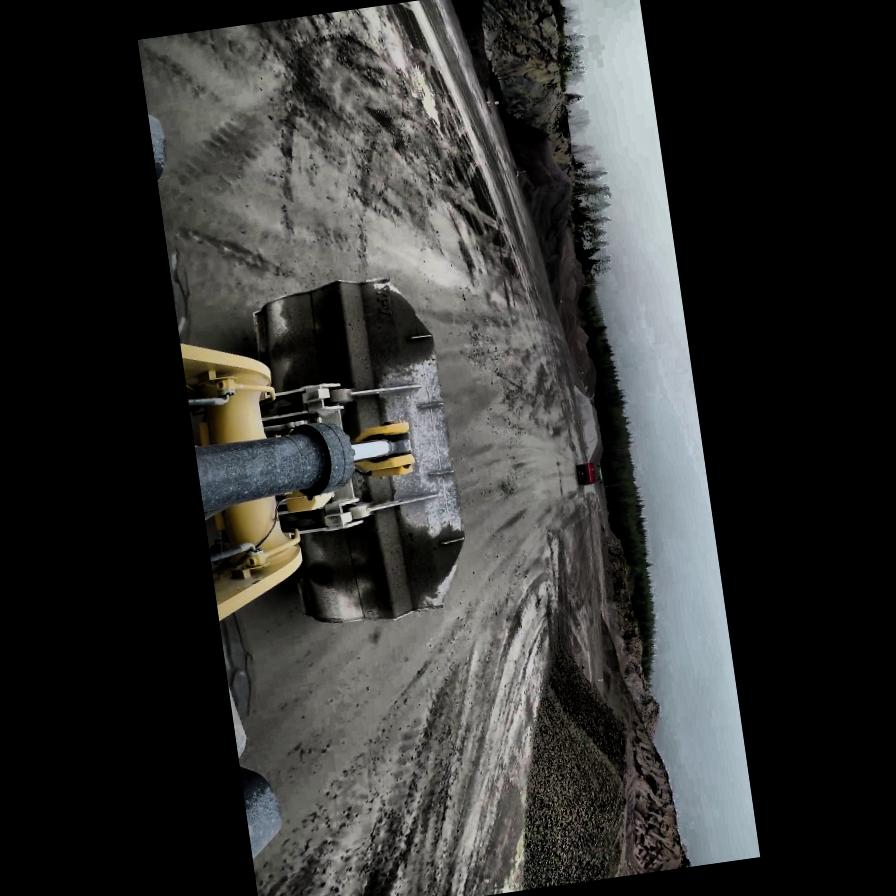anchor: (346, 421, 416, 481)
pile of gravel: (486, 632, 647, 890), (501, 102, 591, 322), (538, 634, 628, 773), (448, 0, 510, 103), (595, 610, 630, 716), (543, 172, 580, 242), (574, 387, 602, 460), (558, 294, 584, 346), (578, 349, 600, 400), (566, 259, 588, 302), (573, 323, 591, 350)
